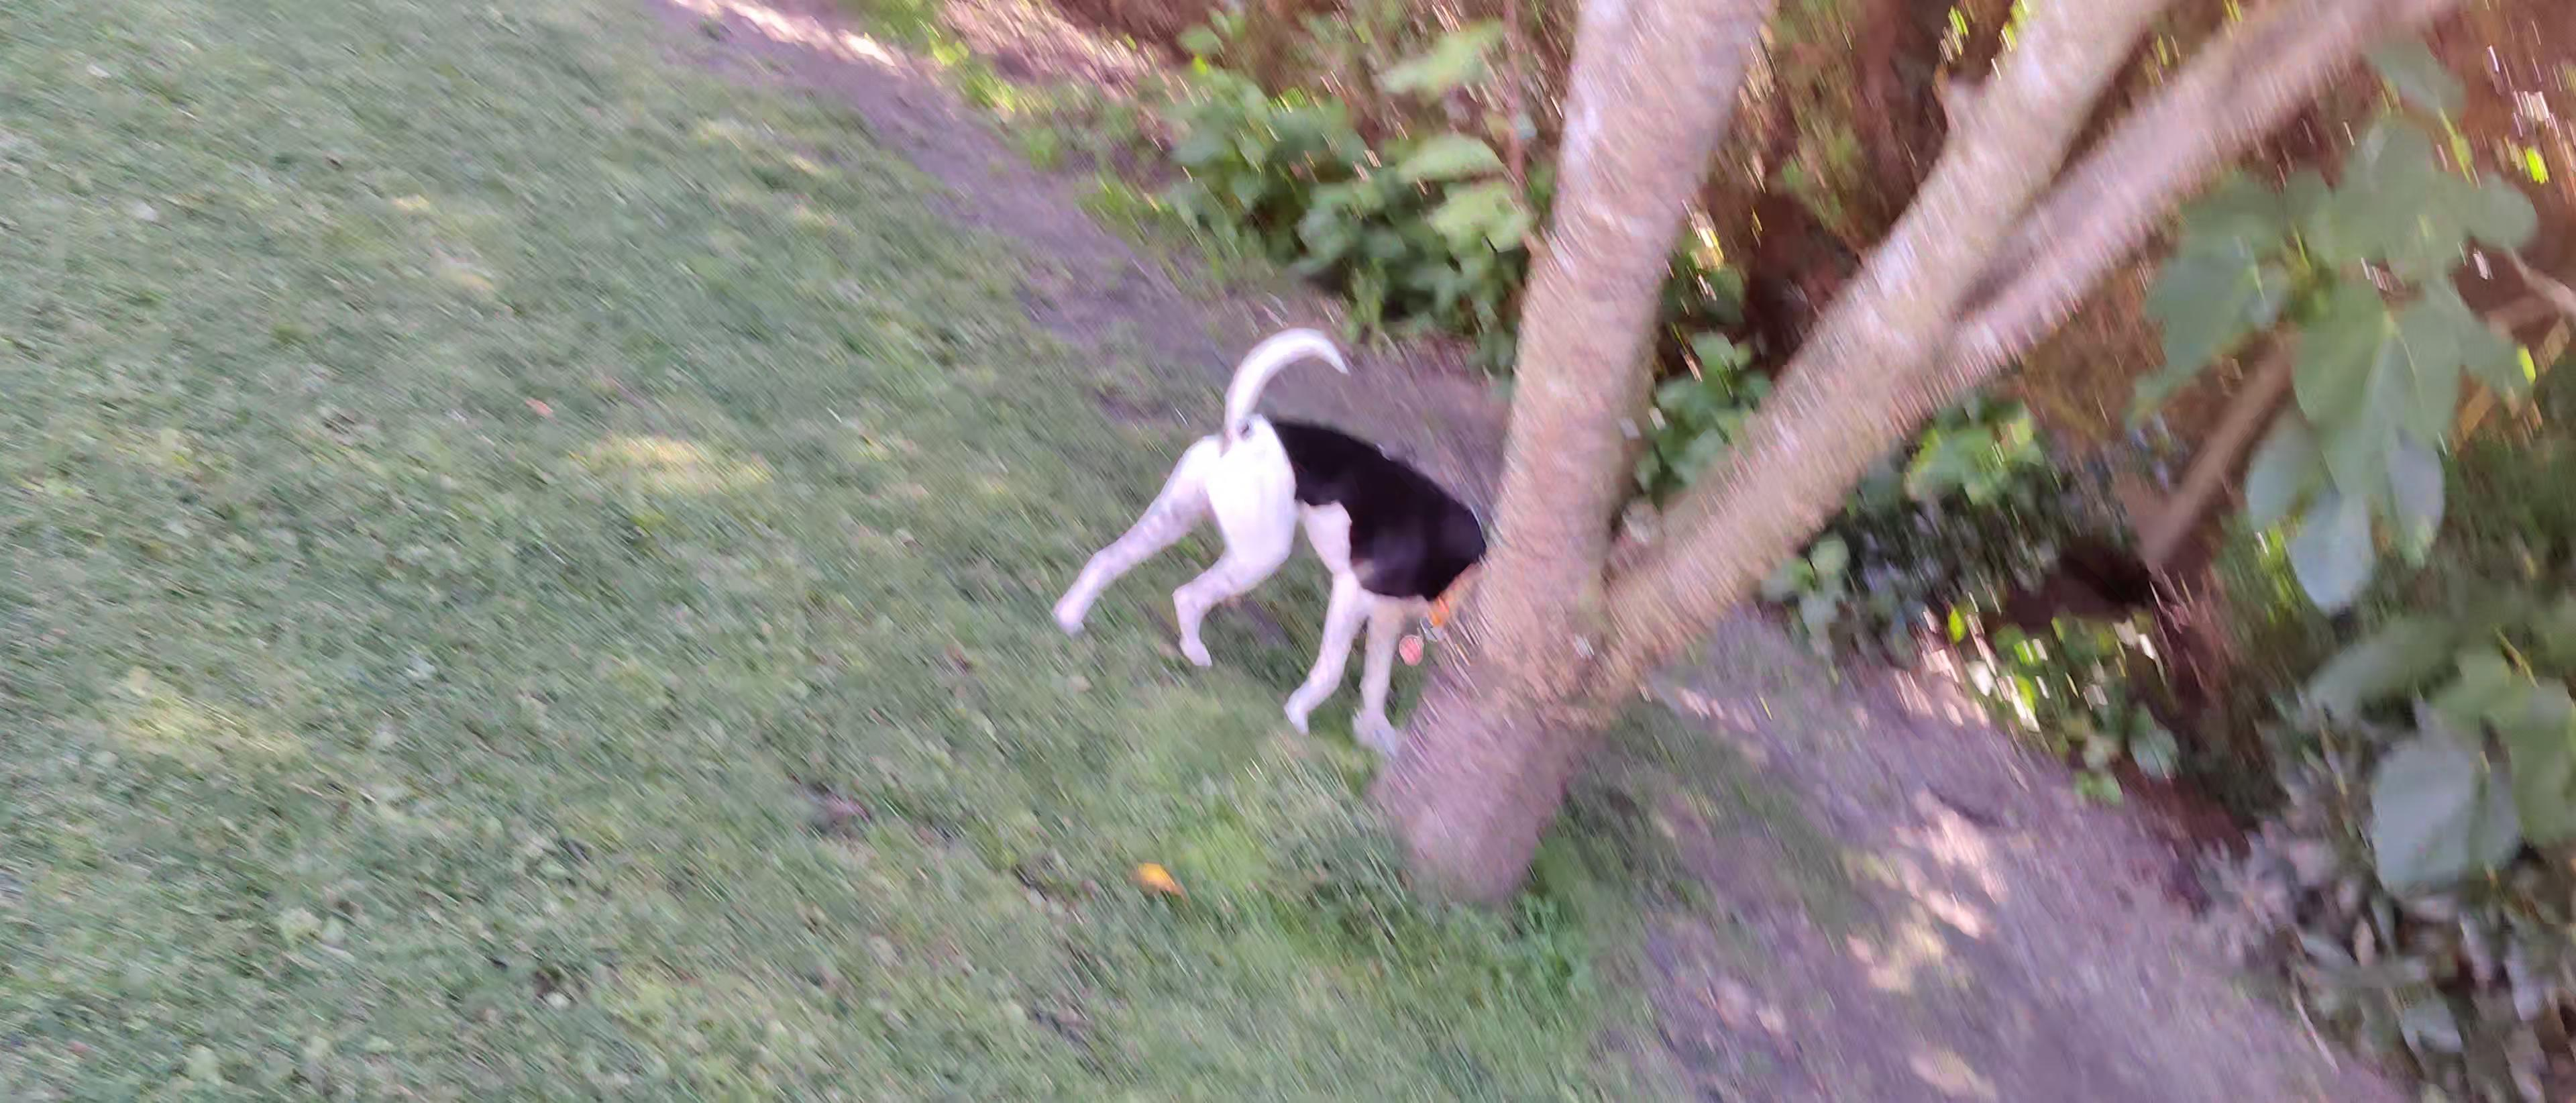Dog: (1037, 312, 1513, 766)
